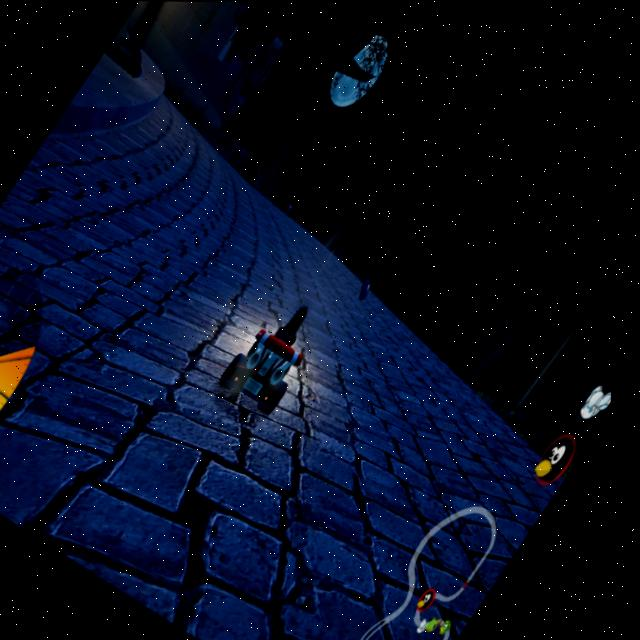nitro: (353, 272, 383, 304)
player_kart: (189, 271, 355, 455)
track: (0, 68, 340, 417)
